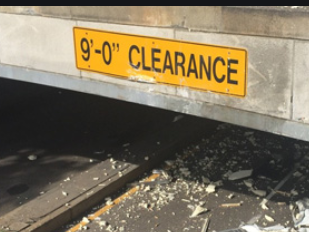0: (100, 39, 113, 67)
9: (78, 37, 92, 62)
overheadsign: (70, 26, 246, 98)
